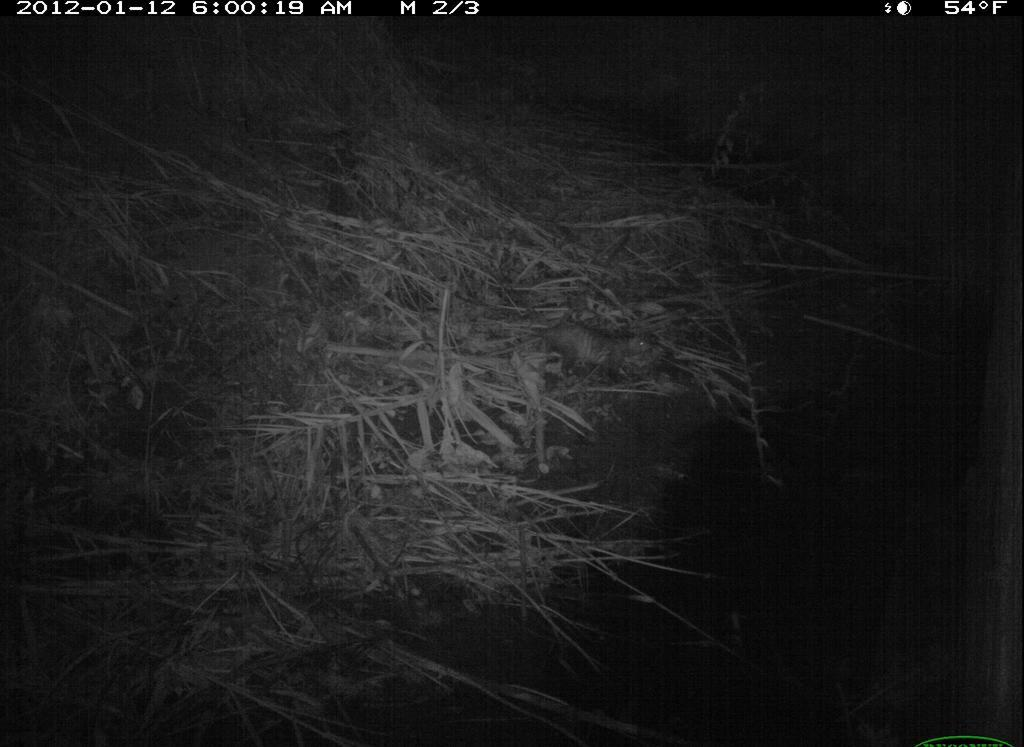opossum: (507, 309, 689, 393)
